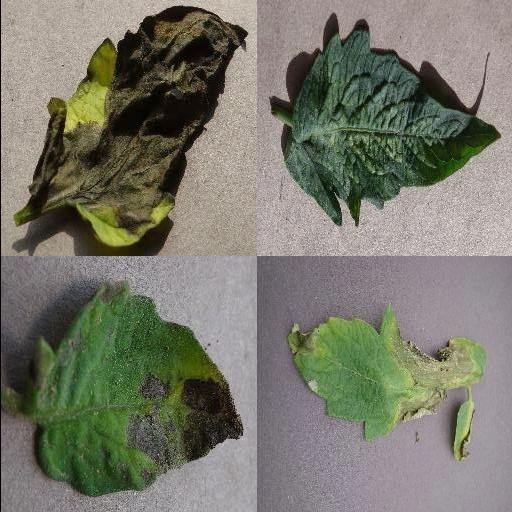Early Blight: (25, 282, 243, 498)
Late Blight: (26, 5, 244, 245), (285, 297, 487, 441), (446, 398, 478, 462)
Spider Mites: (280, 30, 502, 226)
